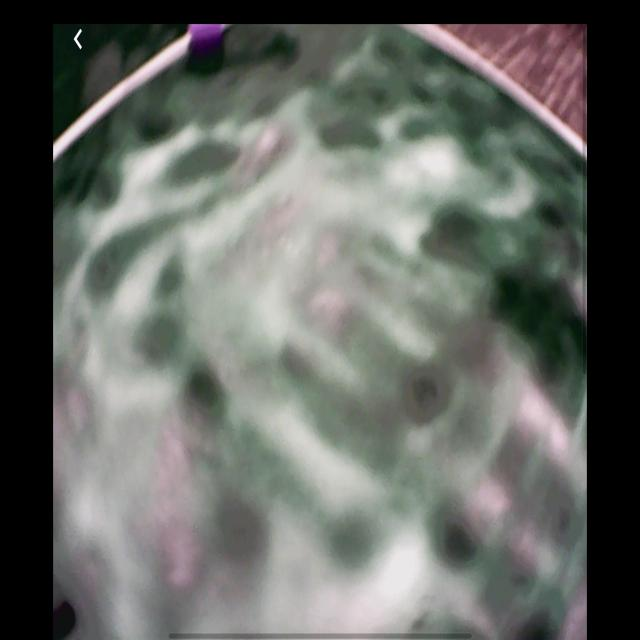ball: (185, 23, 232, 77)
